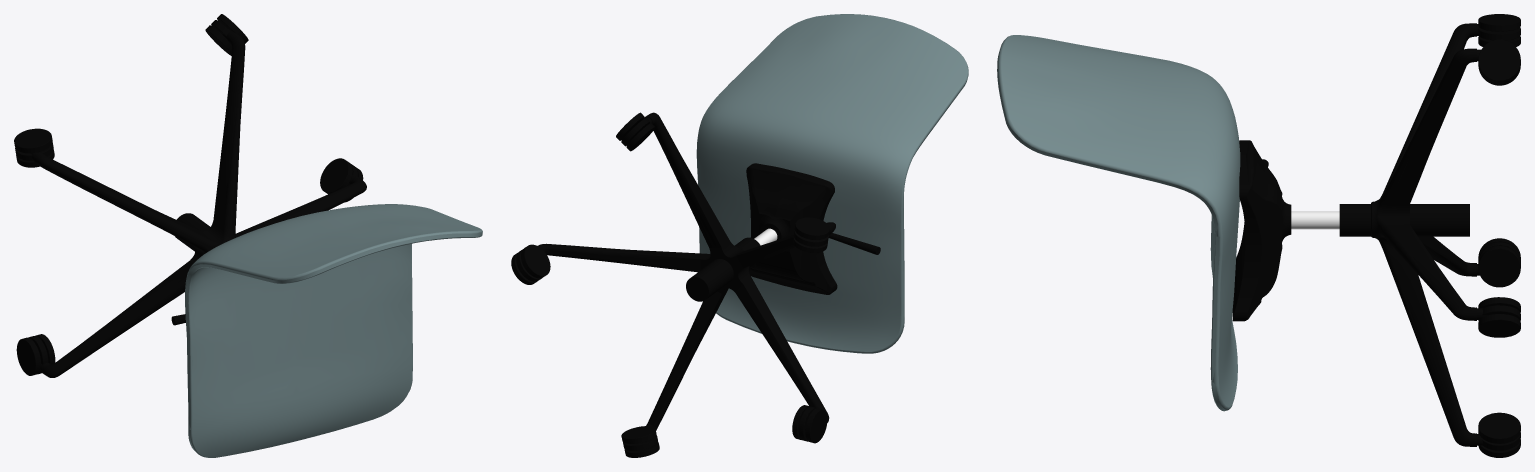
3 renders of one model, left to right at view 1: azimuth 30°, elevation 25°; view 2: azimuth 150°, elevation 25°; view 3: azimuth 270°, elevation 25°, orthographic. The views are drawn at different scales.
Visible parts, largest first — view 1: L_a87634af_7c6d_4f31_8bff_68334d7832ea_I16, L_ee77d872_1fe8_41b3_a3a2_53903ce42af6_I24, L_d1b604fa_ebf2_496e_8c7b_5df83cb56227_I21, L_3cb680c3_1f95_4e15_a43b_4dd74fd0a0e3_I4, L_dfe51cd0_c256_42bd_8d33_d8fb565edeec_I22; view 2: L_a87634af_7c6d_4f31_8bff_68334d7832ea_I16, L_ee77d872_1fe8_41b3_a3a2_53903ce42af6_I24, L_ab667a3b_a0e6_4e55_89d8_cafbaa8b0929_I17, L_43951754_d2f2_4065_9077_714739943ce8_I5, L_d1b604fa_ebf2_496e_8c7b_5df83cb56227_I21, L_3cb680c3_1f95_4e15_a43b_4dd74fd0a0e3_I4, L_dfe51cd0_c256_42bd_8d33_d8fb565edeec_I22, L_2260db46_b984_47b9_99be_725ad8a49d7e_I3; view 3: L_a87634af_7c6d_4f31_8bff_68334d7832ea_I16, L_ee77d872_1fe8_41b3_a3a2_53903ce42af6_I24, L_ab667a3b_a0e6_4e55_89d8_cafbaa8b0929_I17, L_43951754_d2f2_4065_9077_714739943ce8_I5, L_5564e60e_2e25_4b53_8e63_fcb18baeb67e_I8, L_f56ff4be_e128_4c33_ae9a_581ec099631b_I25, L_2260db46_b984_47b9_99be_725ad8a49d7e_I3, L_9f18d571_6f65_42d2_8cb5_5fbd1e941648_I15, L_884e1378_a331_4399_ae15_c3ca7f0b554b_I13, L_3cb680c3_1f95_4e15_a43b_4dd74fd0a0e3_I4.
Boxes of the visible parts, left/top/right/bottom form: L_a87634af_7c6d_4f31_8bff_68334d7832ea_I16: left=185, top=204, right=482, bottom=457; L_ee77d872_1fe8_41b3_a3a2_53903ce42af6_I24: left=33, top=33, right=366, bottom=377; L_d1b604fa_ebf2_496e_8c7b_5df83cb56227_I21: left=320, top=158, right=352, bottom=194; L_3cb680c3_1f95_4e15_a43b_4dd74fd0a0e3_I4: left=14, top=128, right=52, bottom=153; L_dfe51cd0_c256_42bd_8d33_d8fb565edeec_I22: left=16, top=337, right=40, bottom=375; L_a87634af_7c6d_4f31_8bff_68334d7832ea_I16: left=696, top=14, right=968, bottom=353; L_ee77d872_1fe8_41b3_a3a2_53903ce42af6_I24: left=537, top=112, right=835, bottom=430; L_ab667a3b_a0e6_4e55_89d8_cafbaa8b0929_I17: left=746, top=163, right=837, bottom=294; L_43951754_d2f2_4065_9077_714739943ce8_I5: left=686, top=237, right=760, bottom=301; L_d1b604fa_ebf2_496e_8c7b_5df83cb56227_I21: left=521, top=244, right=550, bottom=278; L_3cb680c3_1f95_4e15_a43b_4dd74fd0a0e3_I4: left=794, top=217, right=829, bottom=239; L_dfe51cd0_c256_42bd_8d33_d8fb565edeec_I22: left=805, top=408, right=827, bottom=443; L_2260db46_b984_47b9_99be_725ad8a49d7e_I3: left=621, top=426, right=656, bottom=443; L_a87634af_7c6d_4f31_8bff_68334d7832ea_I16: left=997, top=35, right=1240, bottom=411; L_ee77d872_1fe8_41b3_a3a2_53903ce42af6_I24: left=1371, top=23, right=1476, bottom=446; L_ab667a3b_a0e6_4e55_89d8_cafbaa8b0929_I17: left=1232, top=140, right=1291, bottom=321; L_43951754_d2f2_4065_9077_714739943ce8_I5: left=1339, top=204, right=1469, bottom=236; L_5564e60e_2e25_4b53_8e63_fcb18baeb67e_I8: left=1478, top=39, right=1520, bottom=82; L_f56ff4be_e128_4c33_ae9a_581ec099631b_I25: left=1478, top=246, right=1520, bottom=287; L_2260db46_b984_47b9_99be_725ad8a49d7e_I3: left=1478, top=412, right=1520, bottom=443; L_9f18d571_6f65_42d2_8cb5_5fbd1e941648_I15: left=1291, top=211, right=1339, bottom=229; L_884e1378_a331_4399_ae15_c3ca7f0b554b_I13: left=1478, top=314, right=1520, bottom=337; L_3cb680c3_1f95_4e15_a43b_4dd74fd0a0e3_I4: left=1478, top=14, right=1520, bottom=31.
Size of the model in its own units: 0.6739 by 0.698 by 0.8021.
